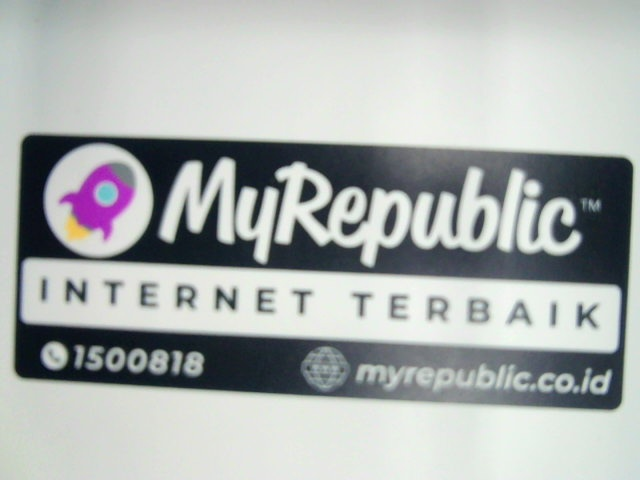BD_MyRepublic: (13, 128, 632, 412)
